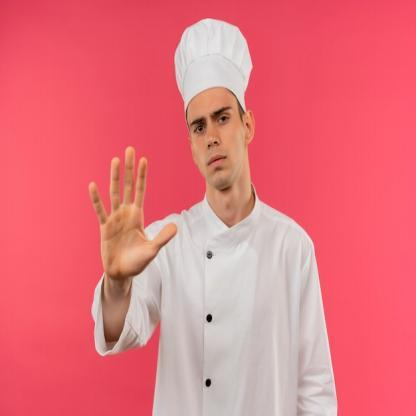stop: (87, 142, 179, 280)
